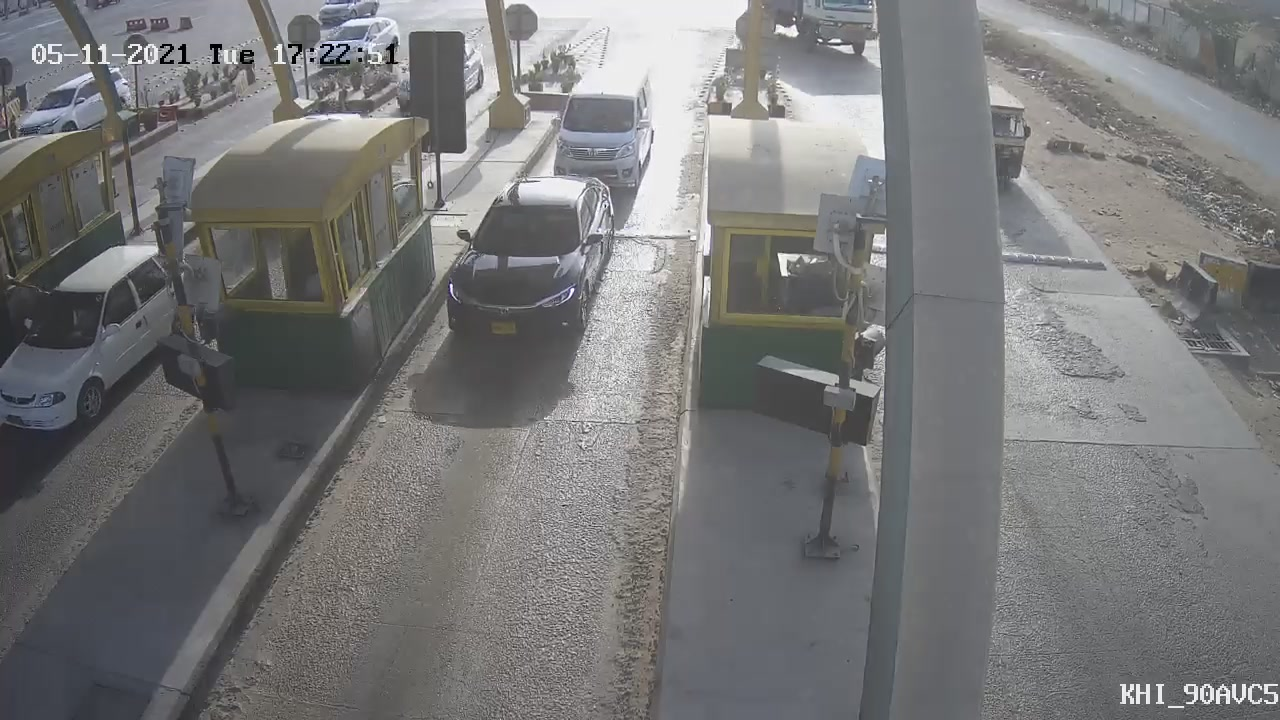F1: (445, 174, 624, 356), (535, 57, 674, 217)
